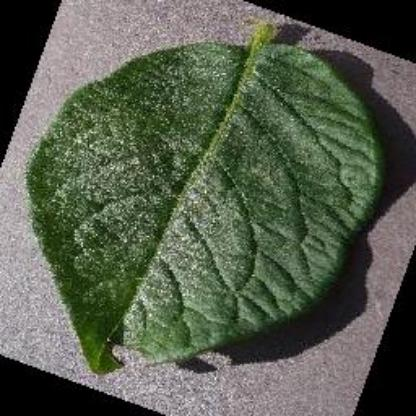Healthy-plant: (19, 18, 391, 388)
